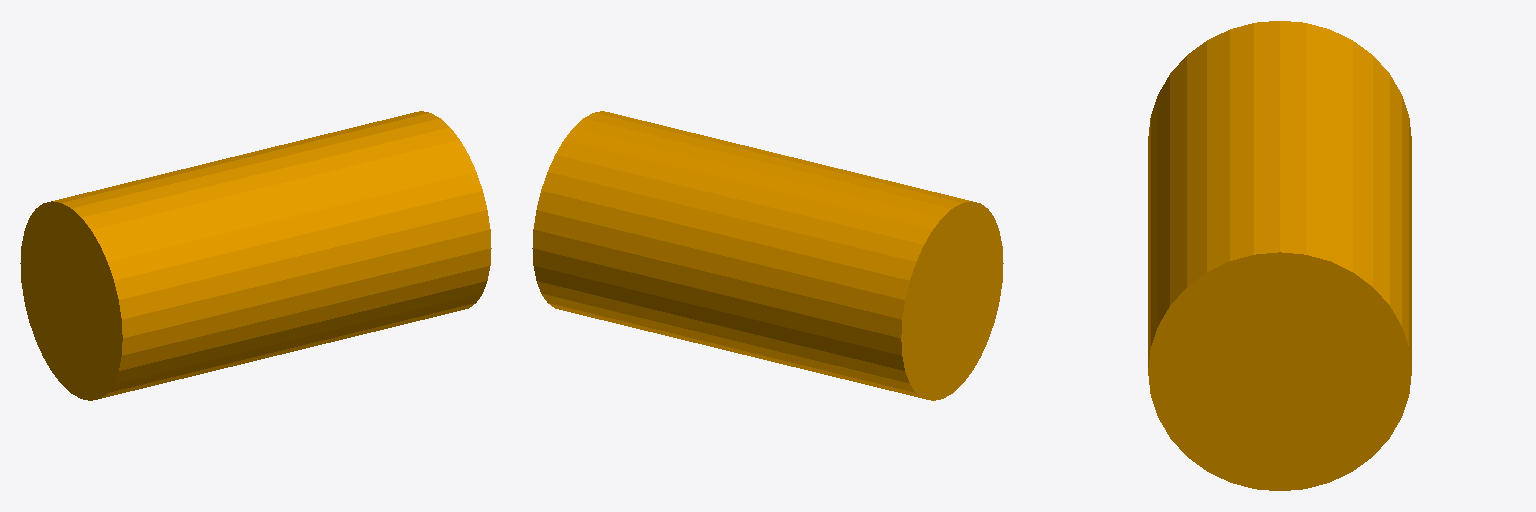
URDF robot description (bottle_capsule):
<?xml version="1.0"?>
<robot name="bottle_capsule">
 <link name="body">
  <inertial>
    <mass value="1"/>
    <inertia ixx="0.0244333333333" ixy="0" ixz="0" iyy="0.0244333333333" iyz="0" izz="0.0036"/>
  </inertial>
  <visual>
    <origin rpy="0 1.57 0" xyz="0 0 0"/>
    <geometry>
      <cylinder length="0.5" radius="0.12"/>
    </geometry>
  </visual>
  <collision>
    <origin rpy="0 1.57 0" xyz="0 0 0"/>
    <geometry>
      <cylinder length="0.5" radius="0.12"/>
    </geometry>
  </collision>
 </link>

  <klampt package_root="../../.." default_acc_max="4" >
  </klampt>
</robot>

--- What the picture shows (computed from the rendered views, not written in the file) ---
3 views of the same robot in one strip: view 1: azimuth 30°, elevation 25°; view 2: azimuth 150°, elevation 25°; view 3: azimuth 270°, elevation 25° (orthographic).
Robot: bottle_capsule — 1 links, 0 joints (none); root link body; default pose: every joint at zero.
Links seen in each view (by area): view 1: body; view 2: body; view 3: body.
Boxes of the visible links, box(x1,y1,x2,y2) form: body: box(20, 111, 491, 400); body: box(532, 111, 1003, 400); body: box(1148, 21, 1411, 490).
Size in the robot's own frame: 0.5002 by 0.24 by 0.2404 metres.
Geometry: primitives only (box / cylinder / sphere), no mesh files.